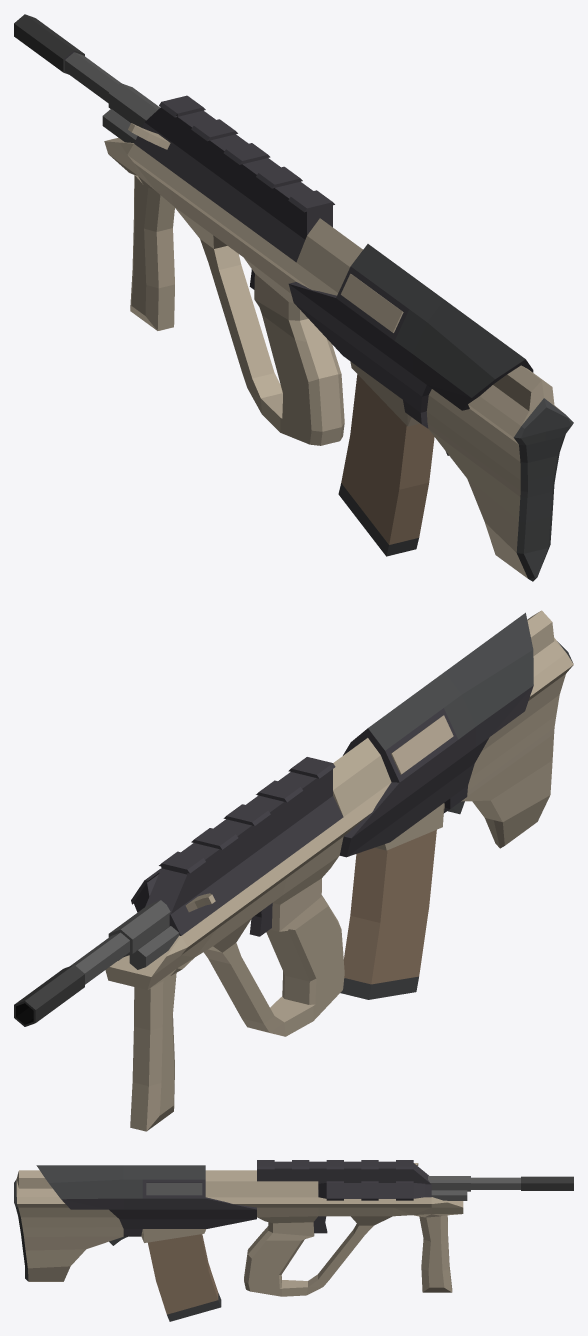
The model's file is AUG.fbx.
3 renders of one model, top to bottom at view 1: azimuth 30°, elevation 25°; view 2: azimuth 150°, elevation 25°; view 3: azimuth 270°, elevation 25°, orthographic. The views are drawn at different scales.
Parts seen in each view (by area): view 1: Base, Magazine; view 2: Base, Magazine; view 3: Base, Magazine, Case Ejector.
Boxes of the visible parts, <box> form: Base: <box>14,14,573,581</box>; Magazine: <box>338,374,434,556</box>; Base: <box>14,610,573,1131</box>; Magazine: <box>340,830,436,999</box>; Base: <box>14,1160,573,1296</box>; Magazine: <box>148,1234,221,1321</box>; Case Ejector: <box>146,1183,202,1195</box>.
Size of the model in its own units: 12.66 by 40.76 by 134.
